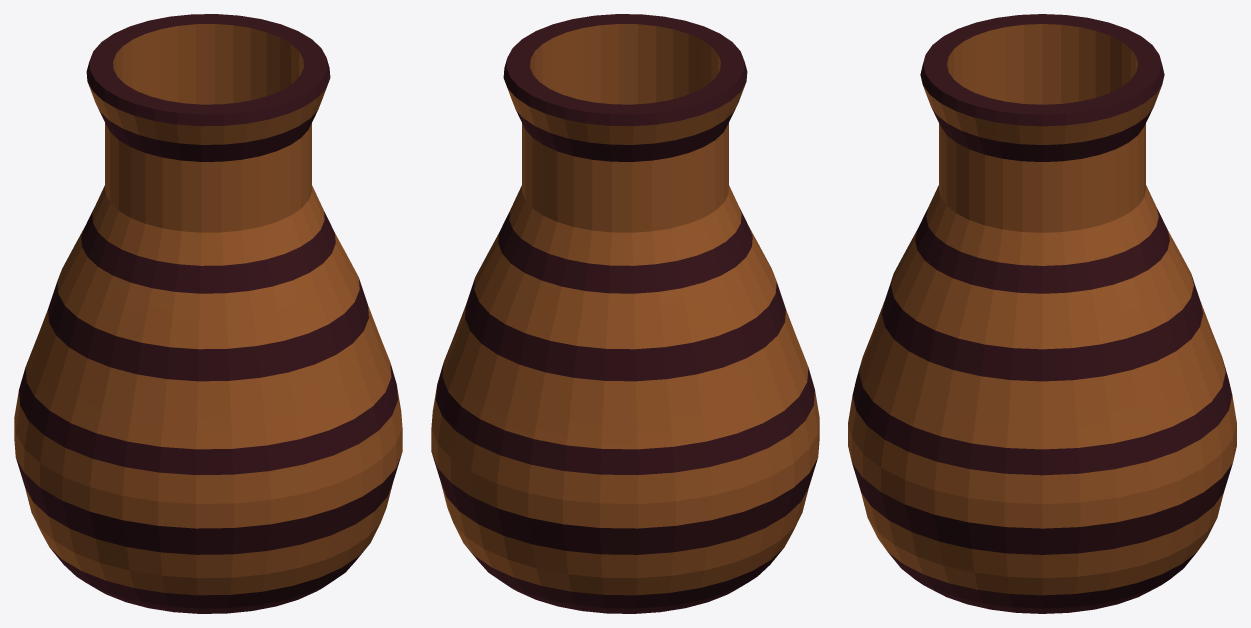
The model's file is VaseColored1fbx.fbx.
3 views of the same model, side by side, from view 1: azimuth 30°, elevation 25°; view 2: azimuth 150°, elevation 25°; view 3: azimuth 270°, elevation 25° (orthographic).
Parts seen in each view (by area): view 1: Circle; view 2: Circle; view 3: Circle.
Part boxes in pixels (box(x1,y1,x2,y2)): Circle: box(14, 14, 402, 613); Circle: box(431, 14, 819, 613); Circle: box(848, 14, 1236, 613).
Size of the model in its own units: 286 by 400 by 286.
